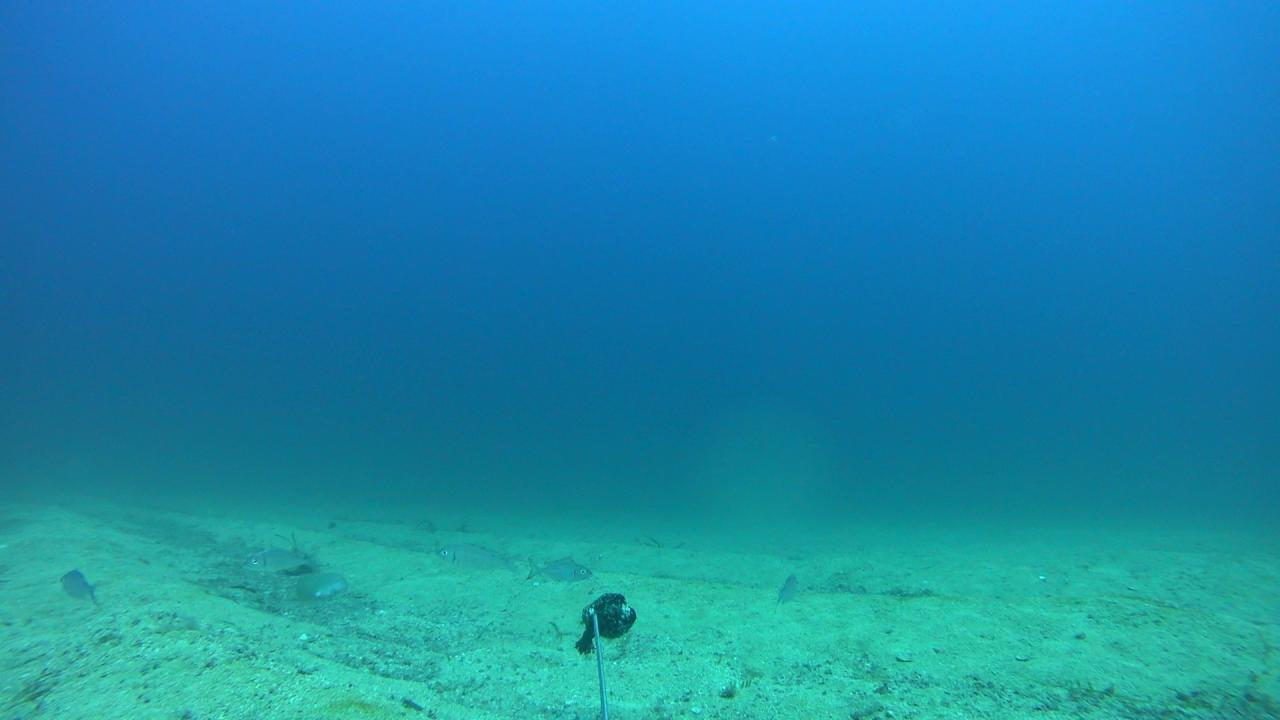pagellus: (436, 543, 522, 571), (242, 546, 320, 571), (526, 557, 592, 583)
